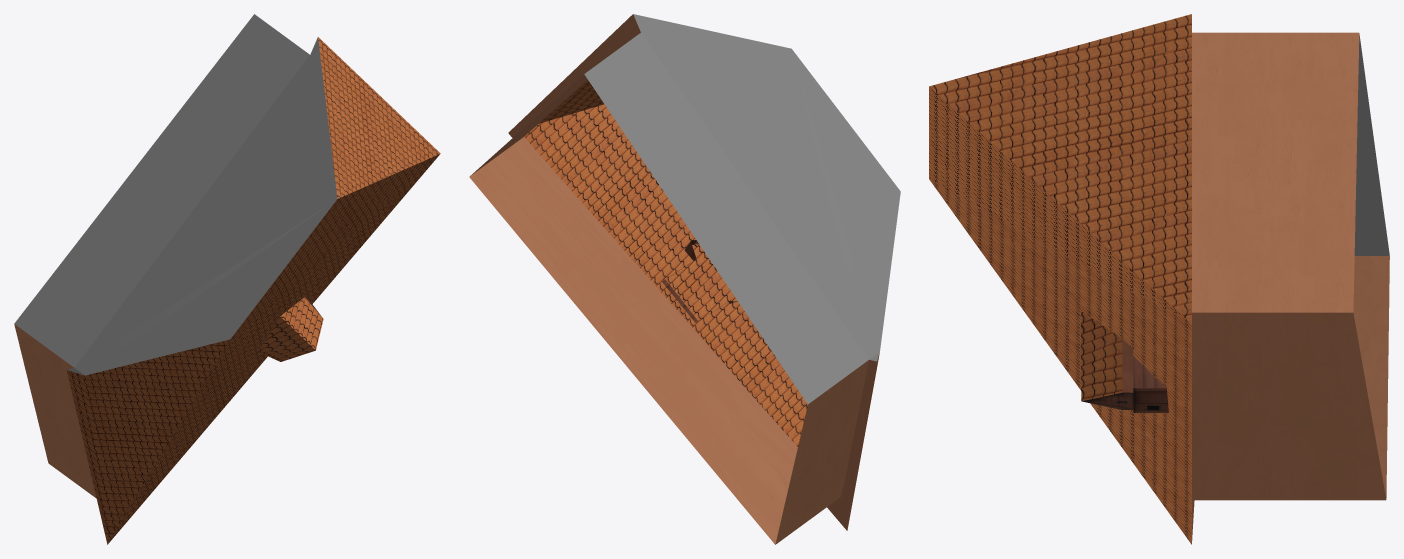
Rendered from Kiriku_8_3-origo.obj.
3 views of the same model, side by side, from view 1: azimuth 30°, elevation 25°; view 2: azimuth 150°, elevation 25°; view 3: azimuth 270°, elevation 25° (orthographic). The views are drawn at different scales.
Visible parts, largest first — view 1: Kiriku_8_3; view 2: Kiriku_8_3; view 3: Kiriku_8_3.
Part boxes in pixels (<box>): Kiriku_8_3: <box>14,14,440,544</box>; Kiriku_8_3: <box>469,14,900,544</box>; Kiriku_8_3: <box>929,14,1389,544</box>.
Bounding box in the file's own units: 11.81 × 14 × 8.53.
Materials: 4 (3 with a texture image).
